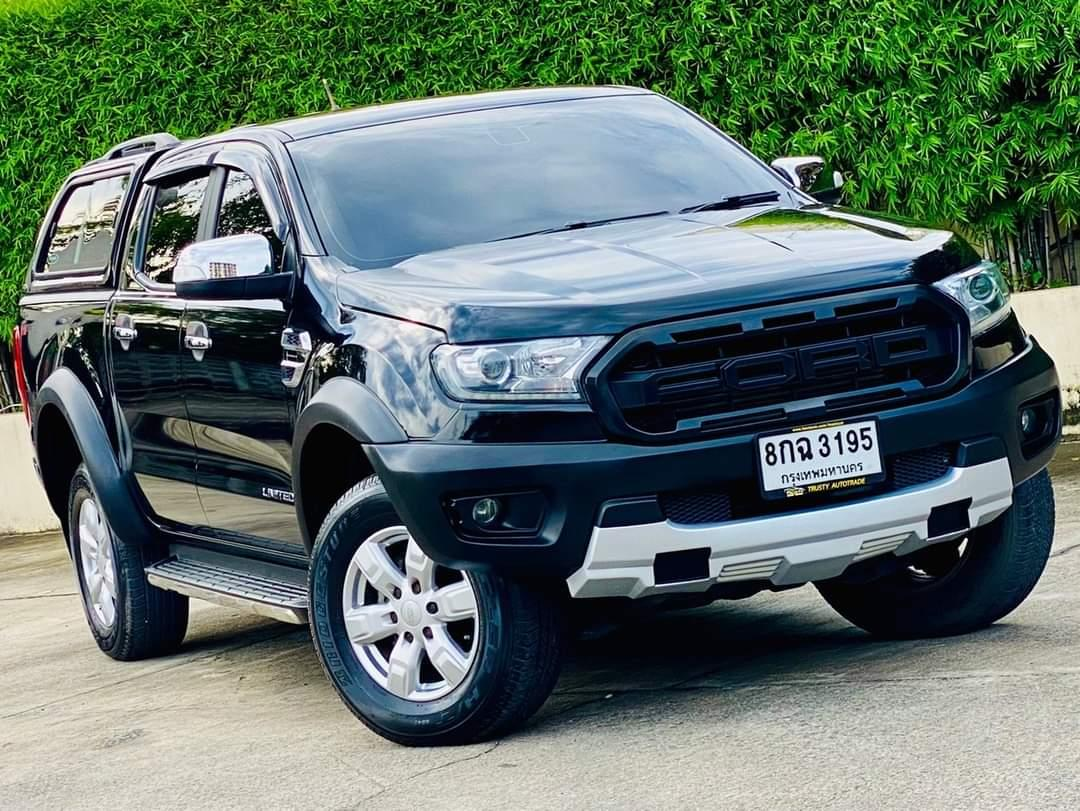license-plate: (744, 413, 892, 504)
